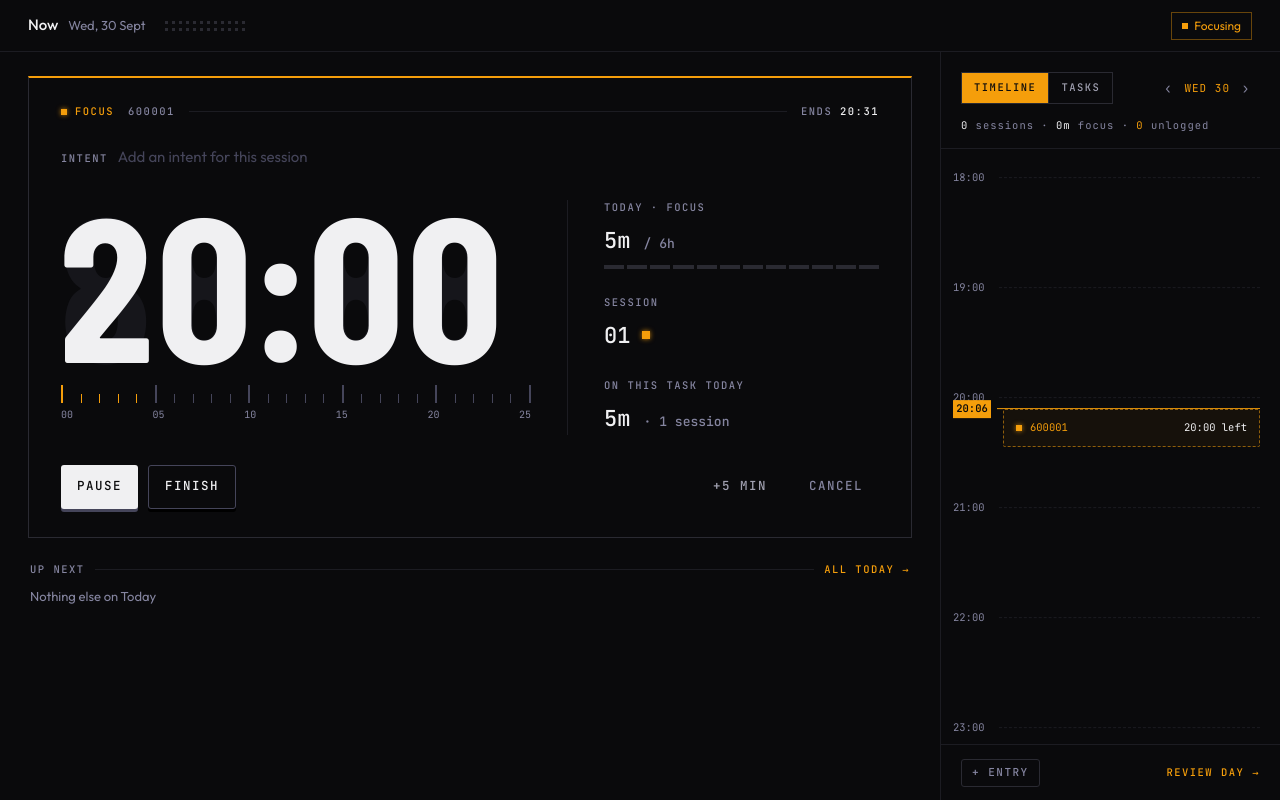
Test case: Timer — active states › running: the INTENT line edits the session note in place — Enter saves, Escape reverts, empty shows the placeholder
The width and height of the screenshot is (1280, 800).
(page scrolled)
Click the button with test id "intent-line" at {"x": 184, "y": 157}, box [61,144,308,170]
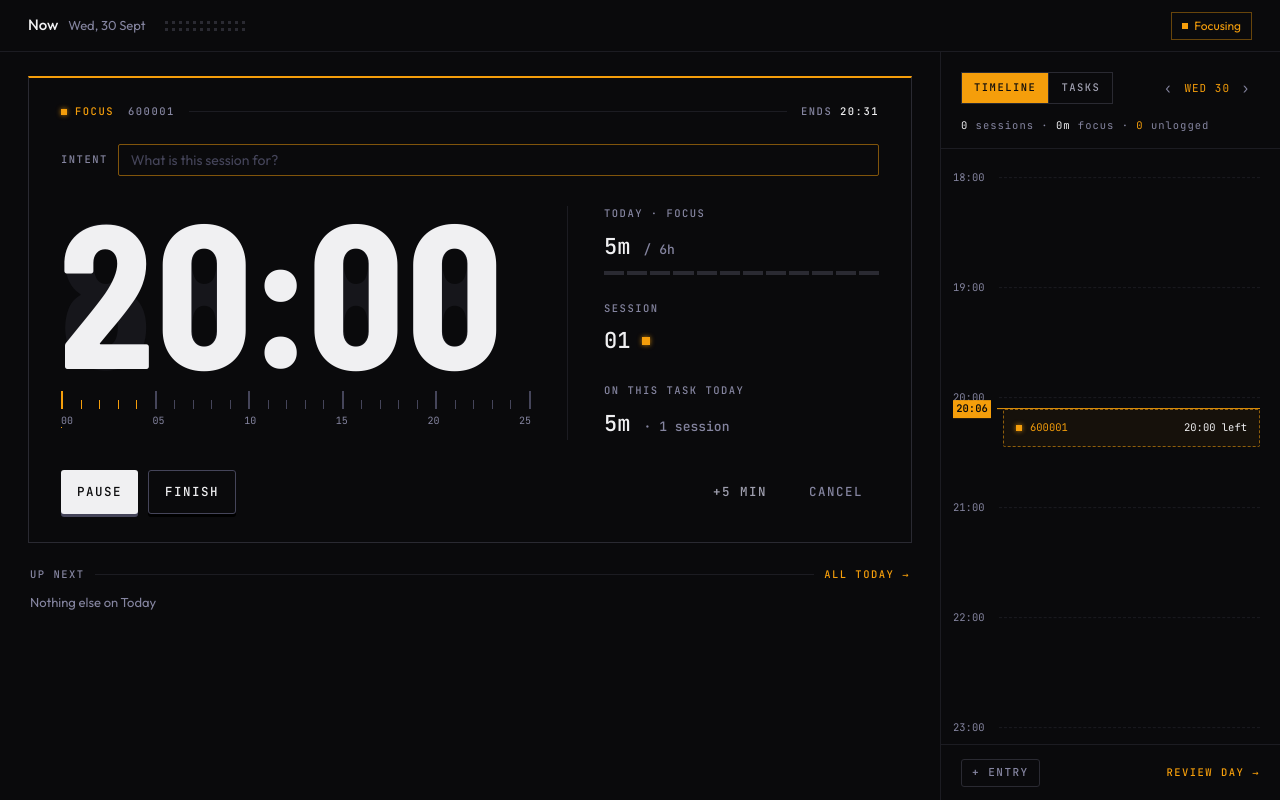
Type "error preview" into the field named "Session intent" at {"x": 498, "y": 160}, box [118,144,879,176]
Then press Enter
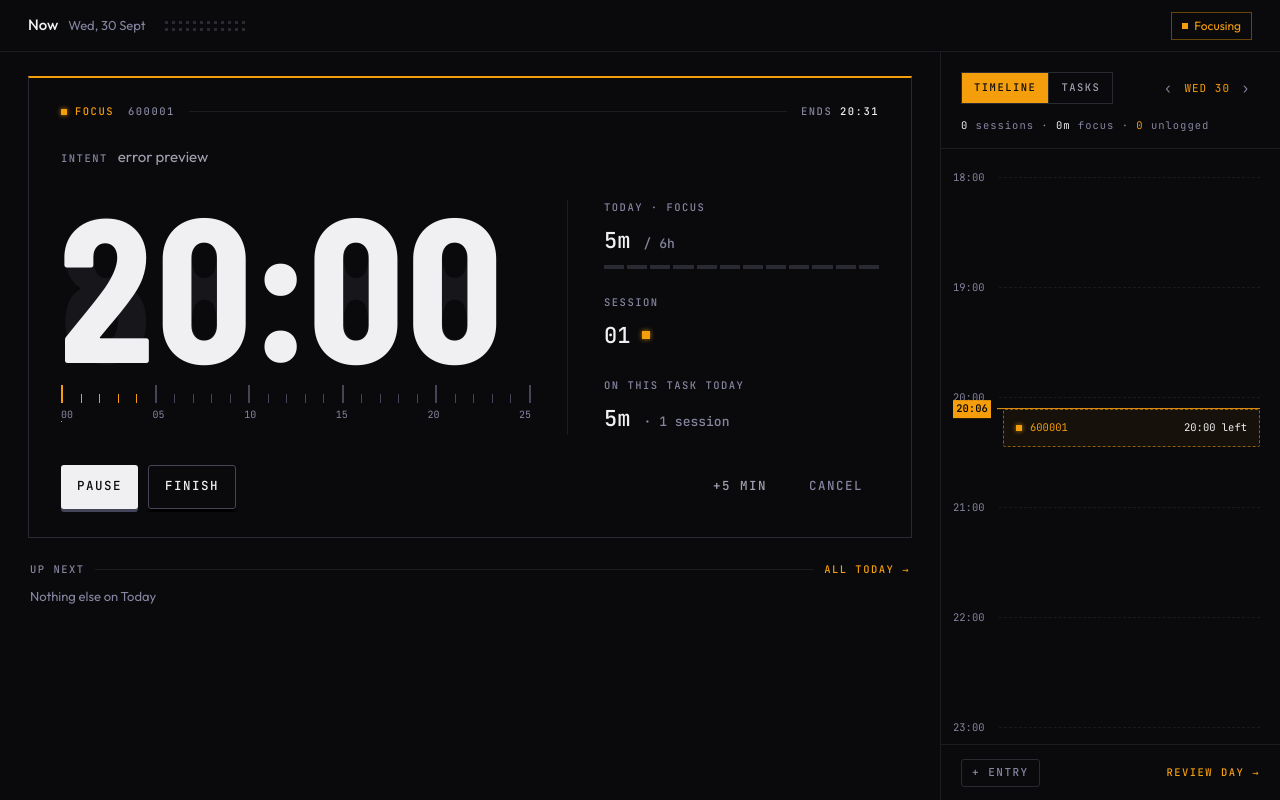
Check: the text "error preview" is shown, box [118,146,208,168]
Check: the button with test id "intent-line" shows "error preview"
Click the button with test id "intent-line" at {"x": 135, "y": 157}, box [61,144,208,170]
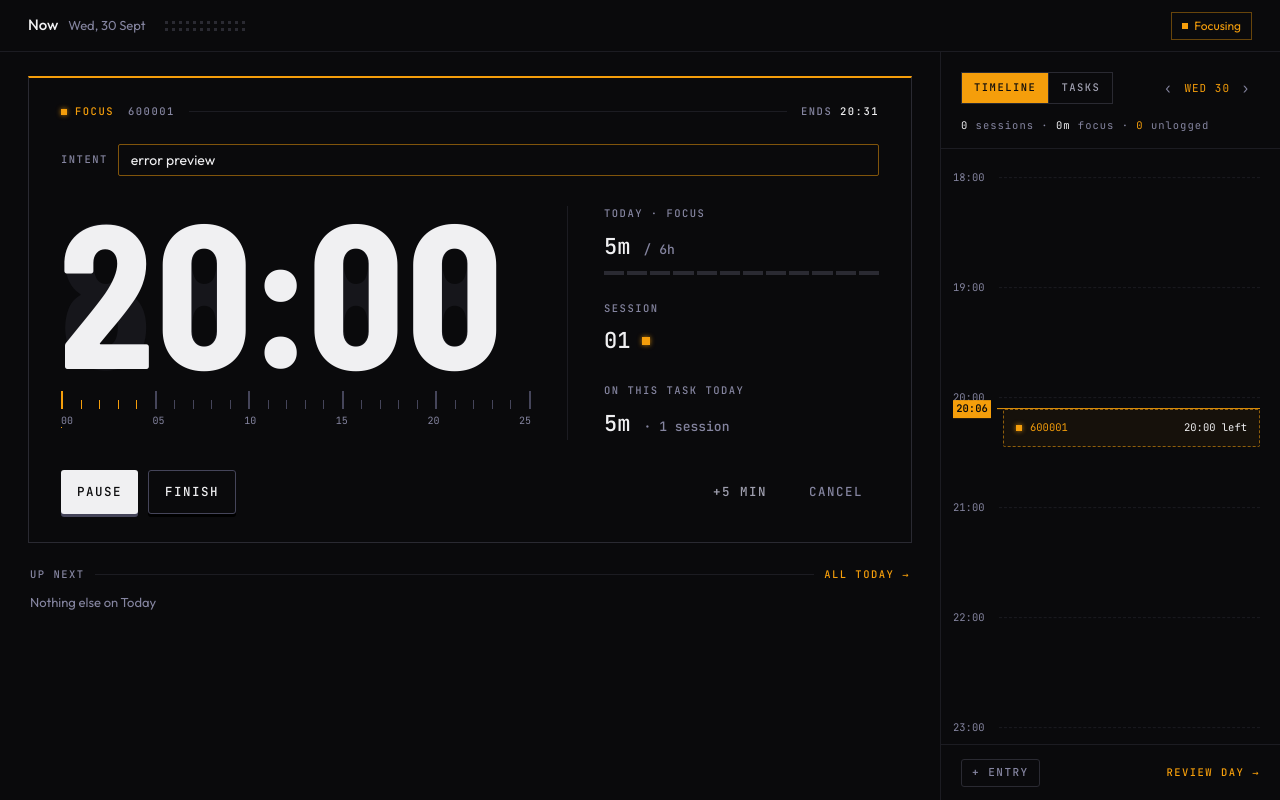
Replace the text in the field named "Session intent" with "something else" at {"x": 498, "y": 160}, box [118,144,879,176]
Then press Escape
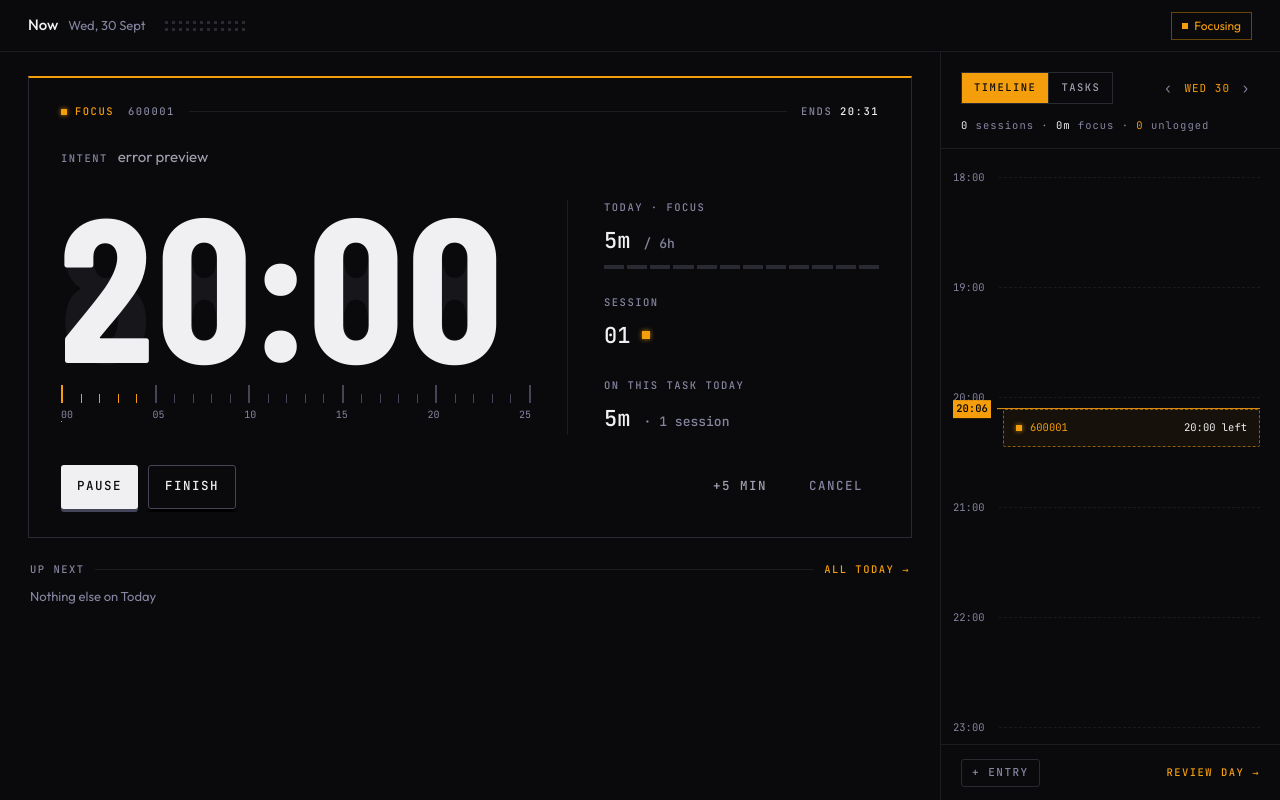
Check: the text "error preview" is shown, box [118,146,208,168]
